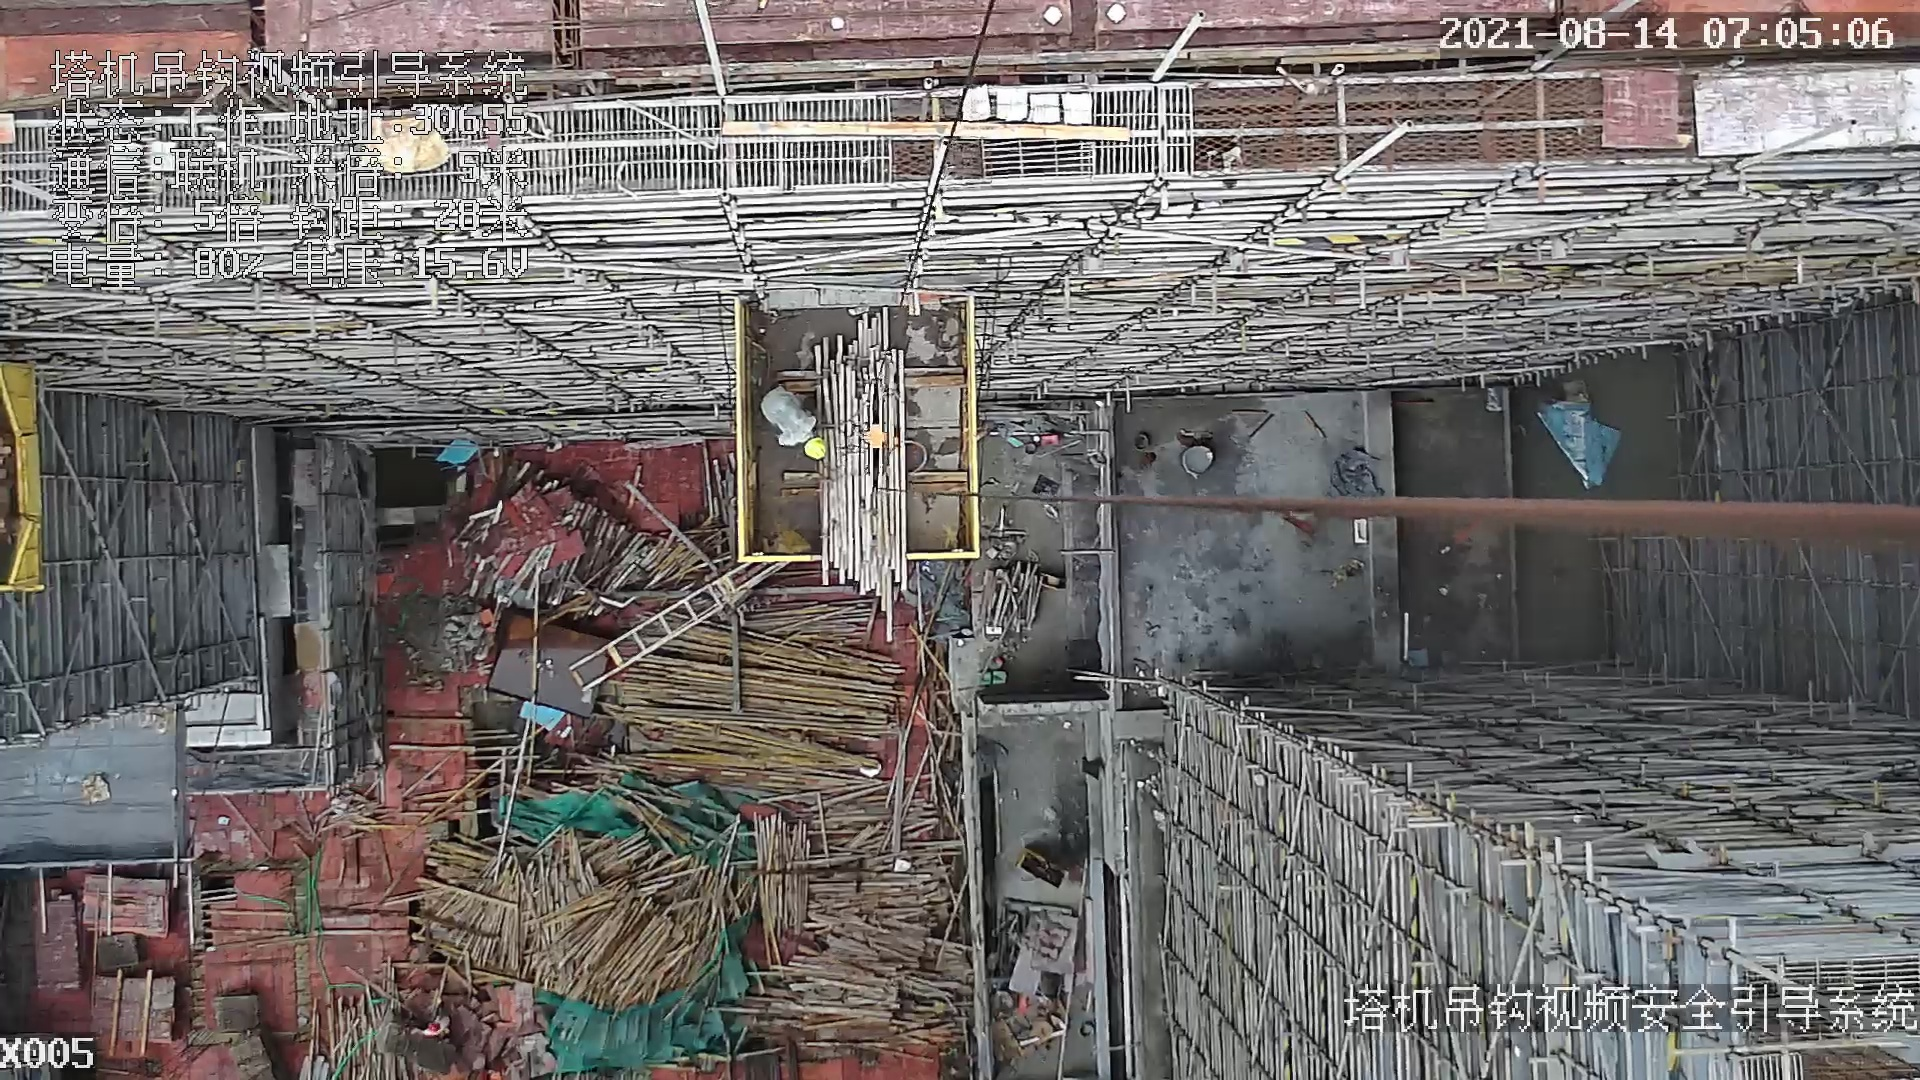helmet: (803, 436, 828, 463)
hook: (856, 383, 896, 491)
person: (760, 376, 827, 471)
